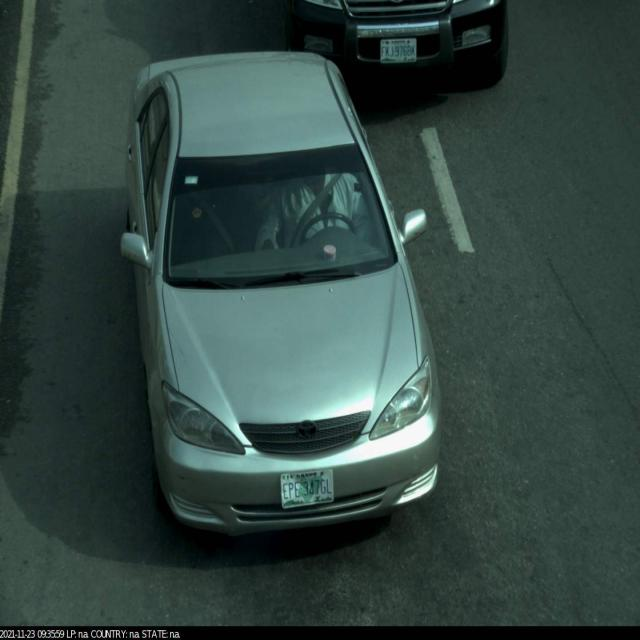windshield: (143, 135, 410, 304)
